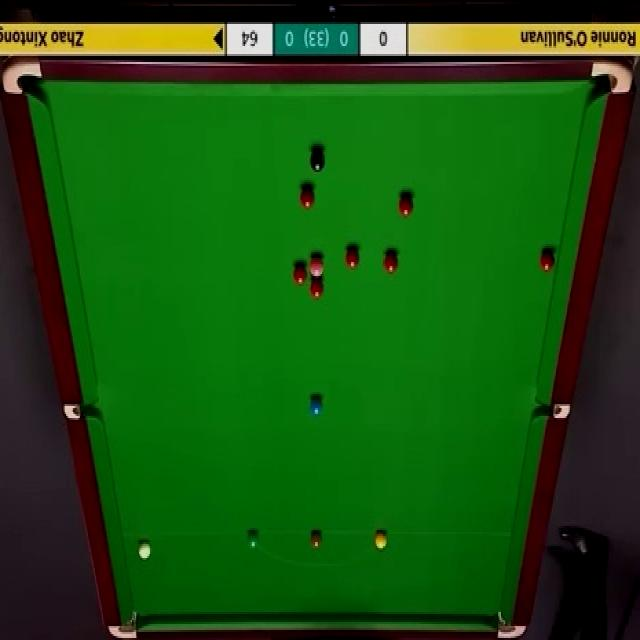pocket: (591, 60, 635, 102), (0, 61, 44, 95), (108, 608, 140, 640), (496, 611, 526, 640), (531, 400, 570, 418), (64, 402, 99, 422)
